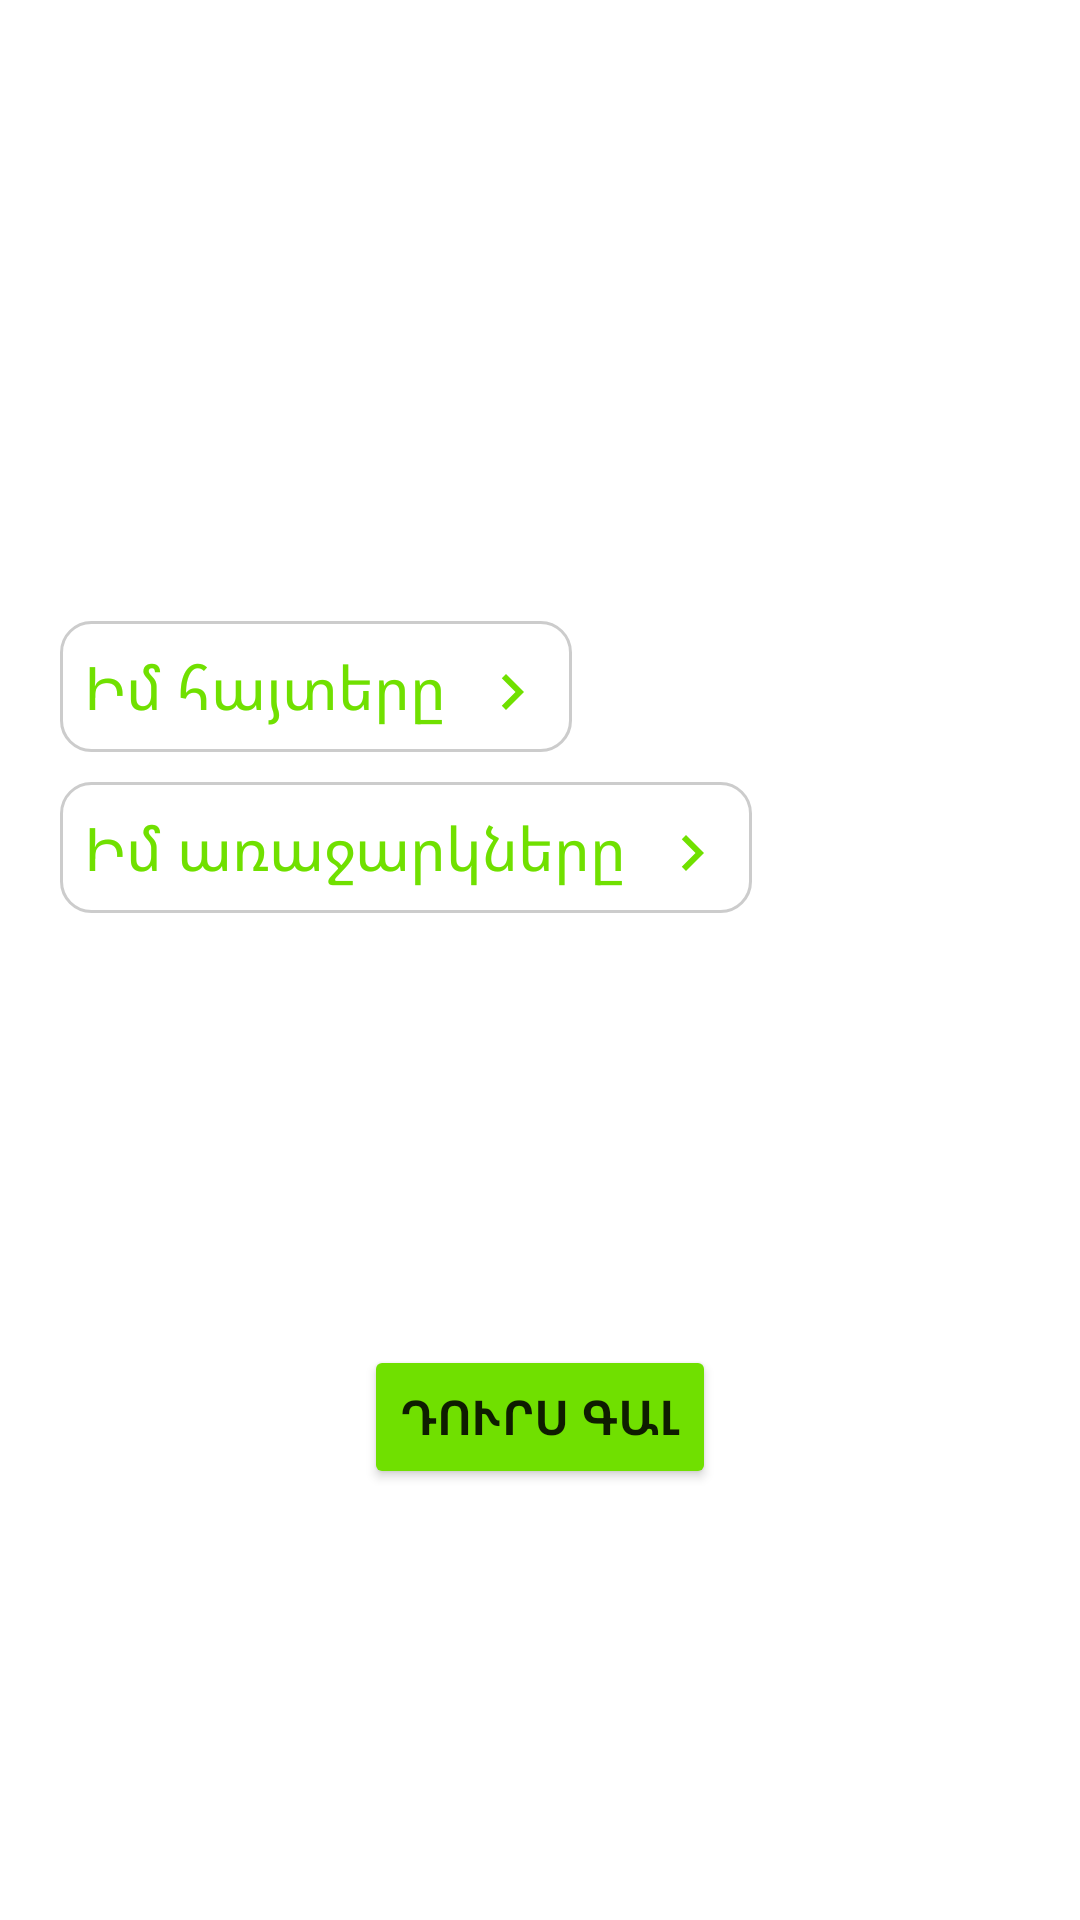

Where to tap for icons on this 1080×1920 app screen, as point (x, y):
navigate next: point (513, 692), point (693, 853)
